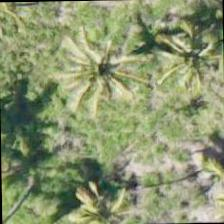Kelapa_Sawit: (60, 27, 152, 119), (149, 4, 223, 96)
